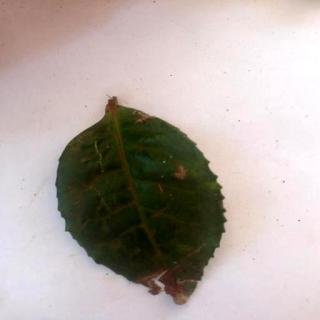Brown Blight: (56, 96, 227, 306)
